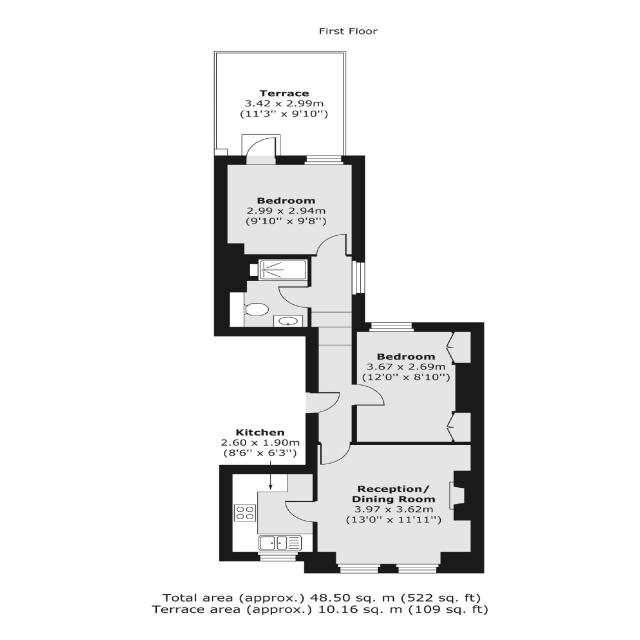DOOR: (244, 135, 279, 165), (351, 381, 388, 408), (280, 498, 318, 524), (317, 441, 353, 467), (305, 391, 344, 415), (313, 231, 349, 256), (276, 285, 312, 310)
ROOM: (275, 441, 485, 574), (214, 130, 367, 256), (352, 322, 484, 446)
WINDOW: (393, 560, 440, 575), (367, 320, 416, 334), (302, 152, 347, 167), (336, 561, 384, 575), (350, 257, 367, 296), (257, 550, 301, 562)
